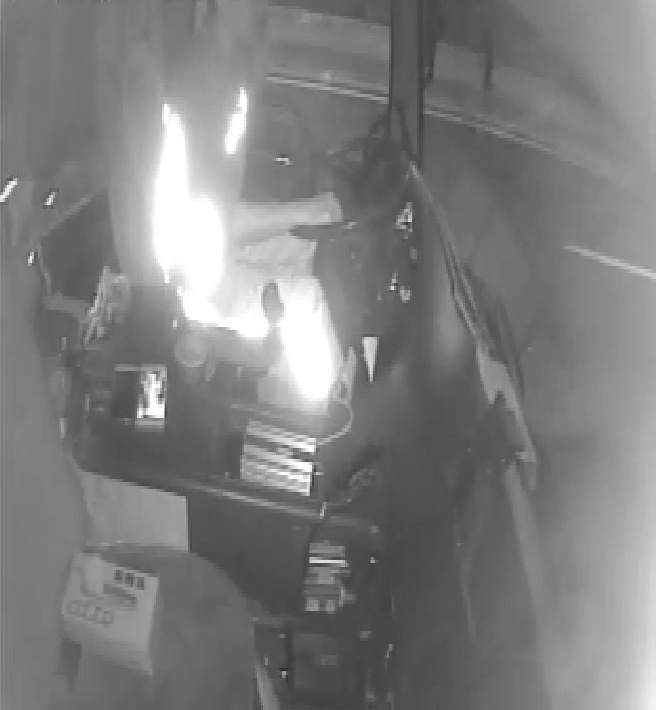cellphone: (131, 363, 169, 432)
